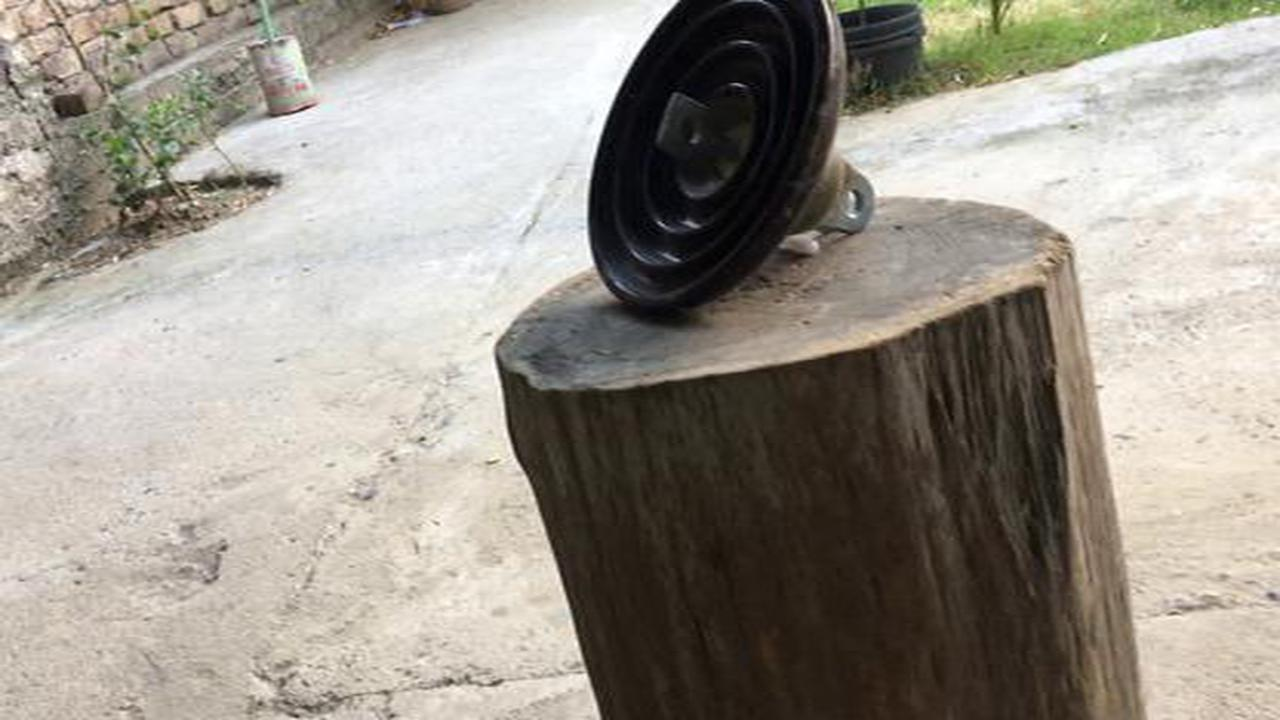insulator_disc: (585, 6, 876, 318)
